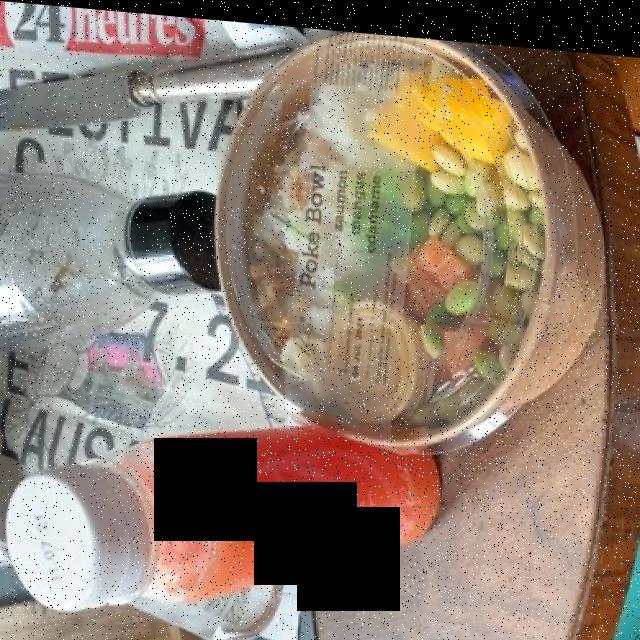juice-multifruit: (134, 415, 450, 602)
mango: (367, 74, 508, 146)
rice: (258, 72, 412, 387)
salmon: (375, 217, 501, 352)
